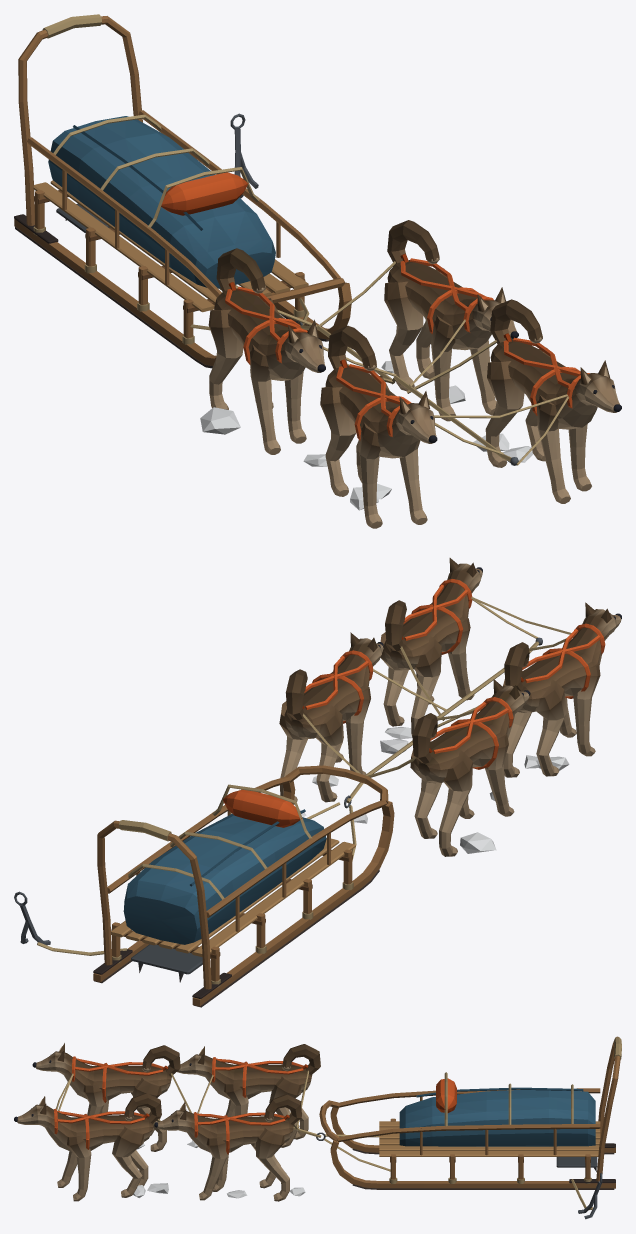
The model's file is dog-sled.glb.
The picture shows the model from 3 angles, top to bottom: view 1: azimuth 30°, elevation 25°; view 2: azimuth 150°, elevation 25°; view 3: azimuth 270°, elevation 25°; orthographic projection. The views are drawn at different scales.
Parts seen in each view (by area): view 1: dog_sled; view 2: dog_sled; view 3: dog_sled.
Boxes of the visible parts, x1,y1,x2,y2 form: dog_sled: [14, 14, 621, 528]; dog_sled: [14, 558, 621, 1007]; dog_sled: [14, 1036, 621, 1219].
Bounding box in the file's own units: 1.42 × 0.9015 × 3.9.
